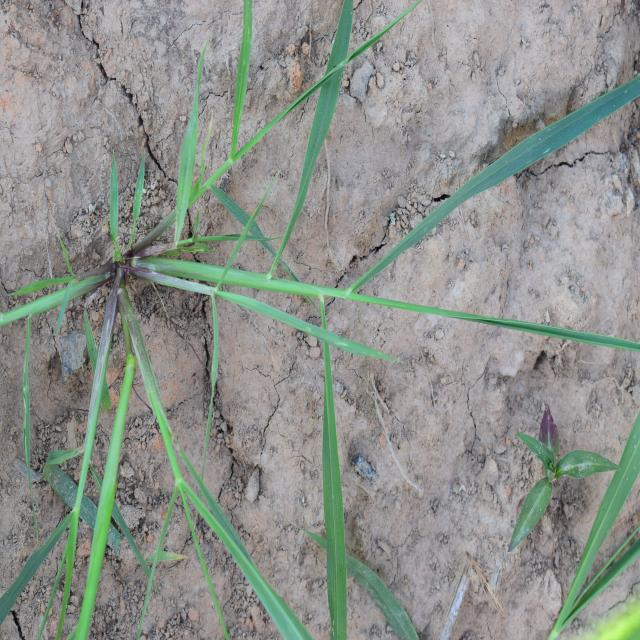green_foxtail: (122, 63, 434, 420)
